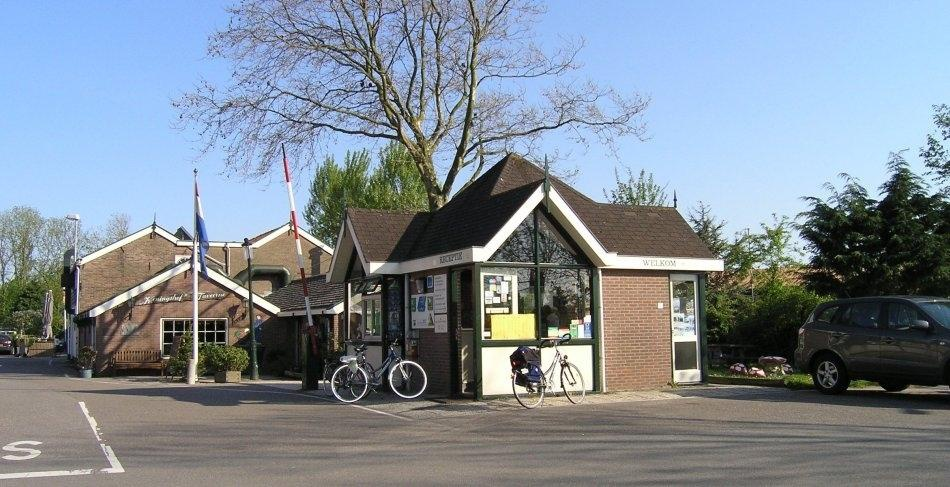non-vehicle: (330, 332, 427, 403), (511, 331, 586, 408), (322, 342, 375, 398)
